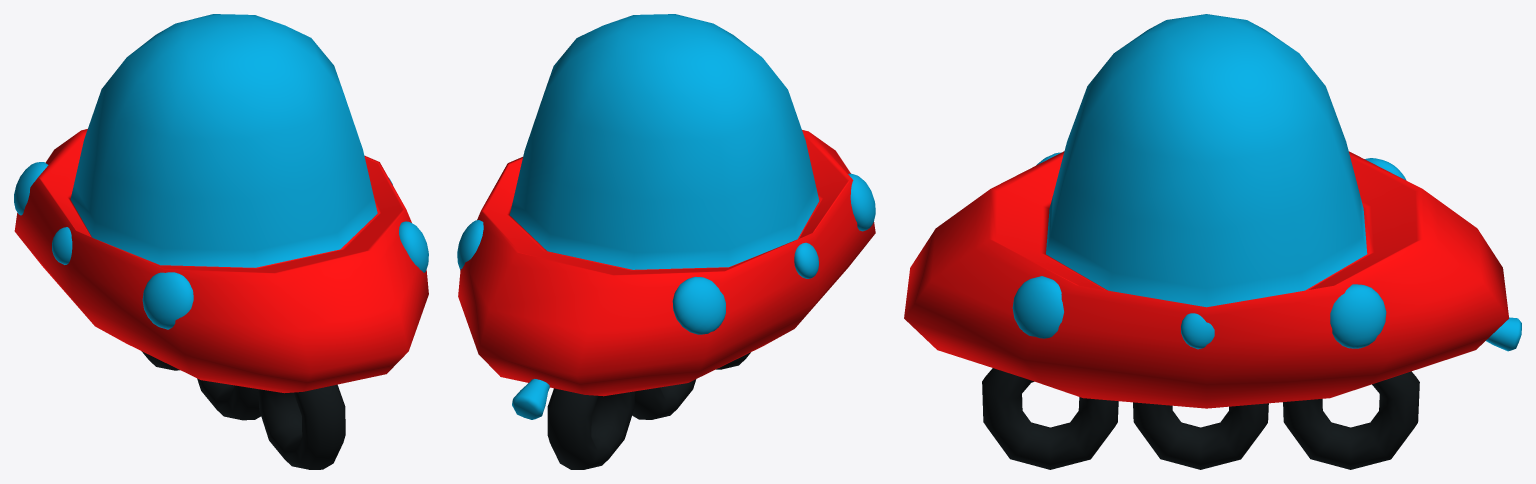
The model's file is Car_red.FBX.
3 renders of one model, left to right at view 1: azimuth 30°, elevation 25°; view 2: azimuth 150°, elevation 25°; view 3: azimuth 270°, elevation 25°, orthographic. The views are drawn at different scales.
Visible parts, largest first — view 1: polySurface33; view 2: polySurface33; view 3: polySurface33.
Boxes of the visible parts, x1,y1,x2,y2 form: polySurface33: (14, 14, 428, 469); polySurface33: (457, 14, 875, 469); polySurface33: (904, 14, 1521, 469).
Size of the model in its own units: 107 by 123 by 160.
